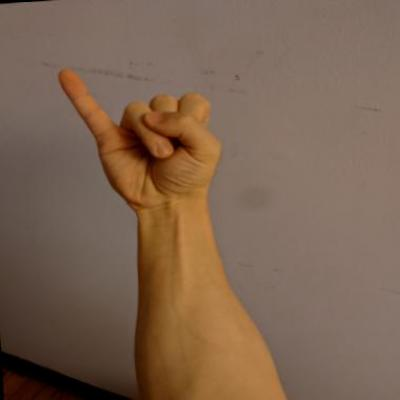hand: (52, 57, 230, 220)
